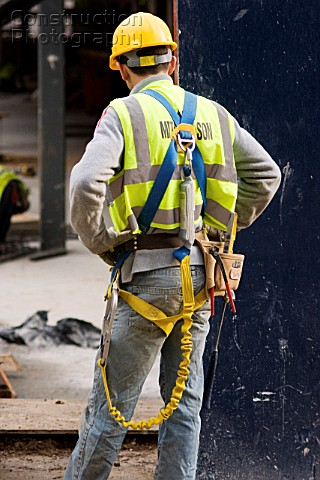Hard Hat: (108, 14, 180, 67)
High Viz: (112, 85, 237, 237)
